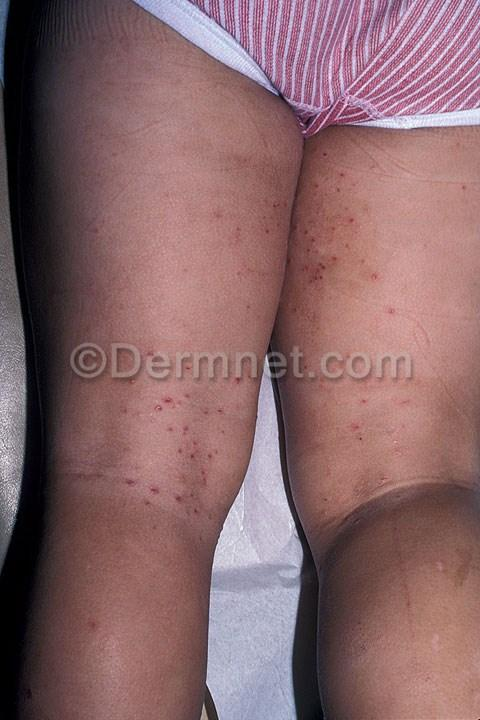edema 1: (69, 138, 282, 504), (285, 170, 449, 471)
